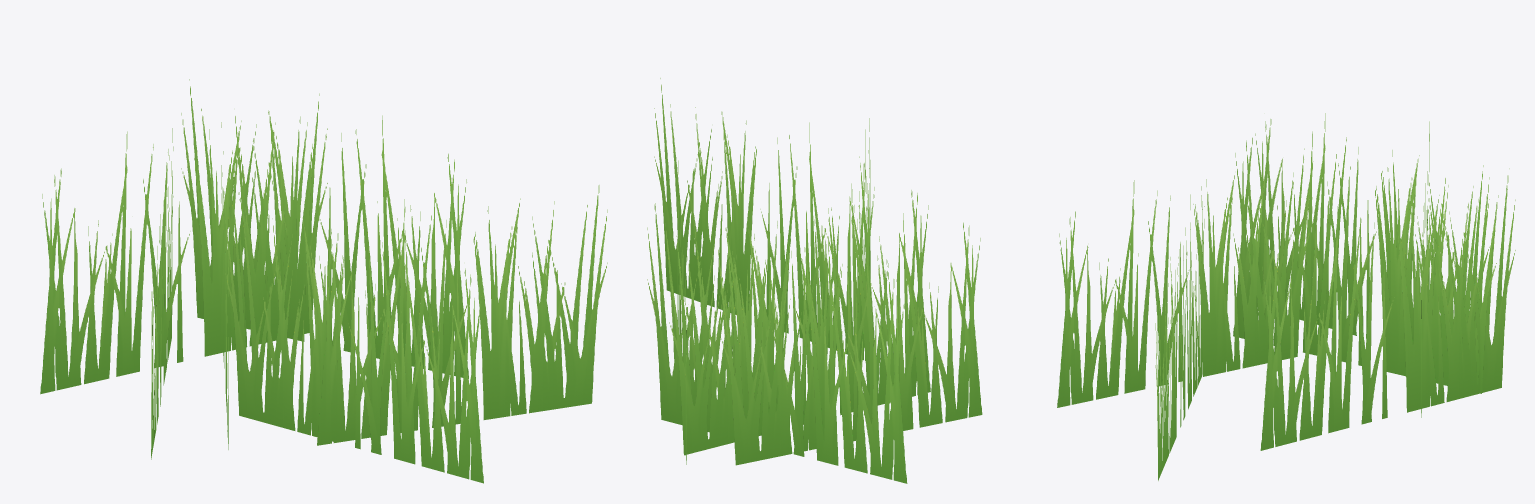
File: plant_grass_tuft.glb
3 renders of one model, left to right at view 1: azimuth 30°, elevation 25°; view 2: azimuth 150°, elevation 25°; view 3: azimuth 270°, elevation 25°, orthographic. The views are drawn at different scales.
Visible parts, largest first — view 1: grass_tuft_grass; view 2: grass_tuft_grass; view 3: grass_tuft_grass.
Boxes of the visible parts, x1,y1,x2,y2 form: grass_tuft_grass: (40,79,607,483); grass_tuft_grass: (647,78,982,483); grass_tuft_grass: (1057,113,1515,480).
Size of the model in its own units: 0.7645 by 0.4849 by 0.7792.
Materials: 1 (1 with a texture image).
